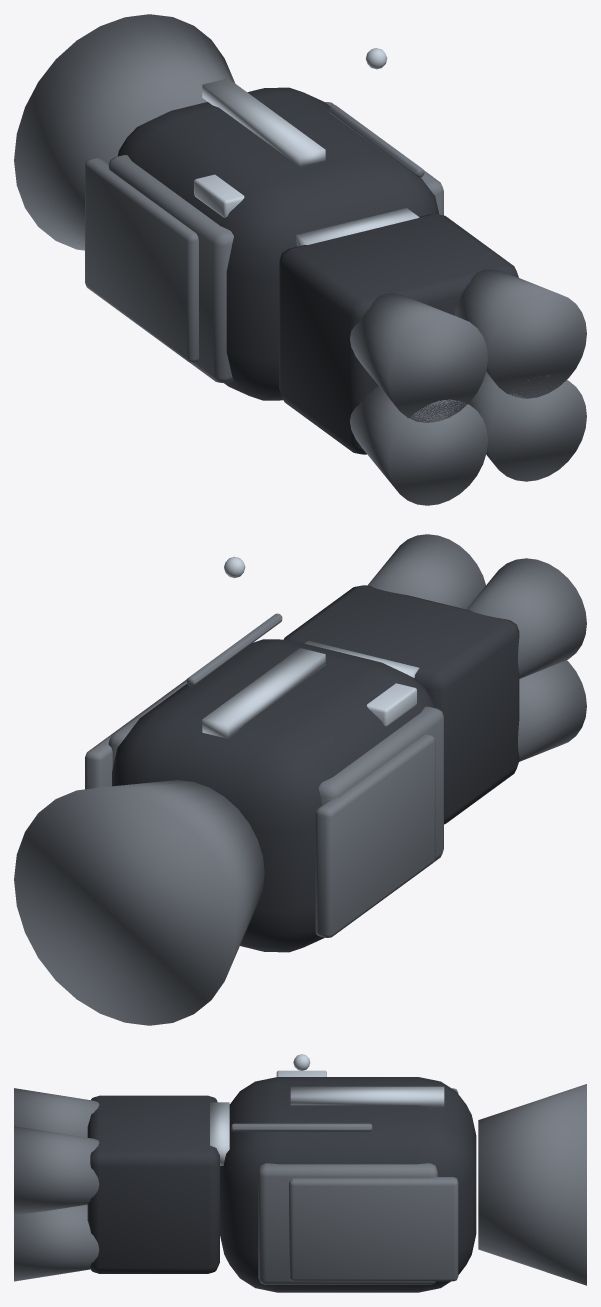
Rendered from weapon_drone_pyre_thrower.glb.
3 renders of one model, top to bottom at view 1: azimuth 30°, elevation 25°; view 2: azimuth 150°, elevation 25°; view 3: azimuth 270°, elevation 25°, orthographic. The views are drawn at different scales.
Visible parts, largest first — view 1: weapon_drone_pyre_thrower; view 2: weapon_drone_pyre_thrower; view 3: weapon_drone_pyre_thrower.
Part boxes in pixels (box(x1,y1,x2,y2)): weapon_drone_pyre_thrower: box(14, 14, 586, 505); weapon_drone_pyre_thrower: box(14, 534, 586, 1025); weapon_drone_pyre_thrower: box(14, 1054, 586, 1292).
Bounding box in the file's own units: 0.5808 × 0.7068 × 1.48.
